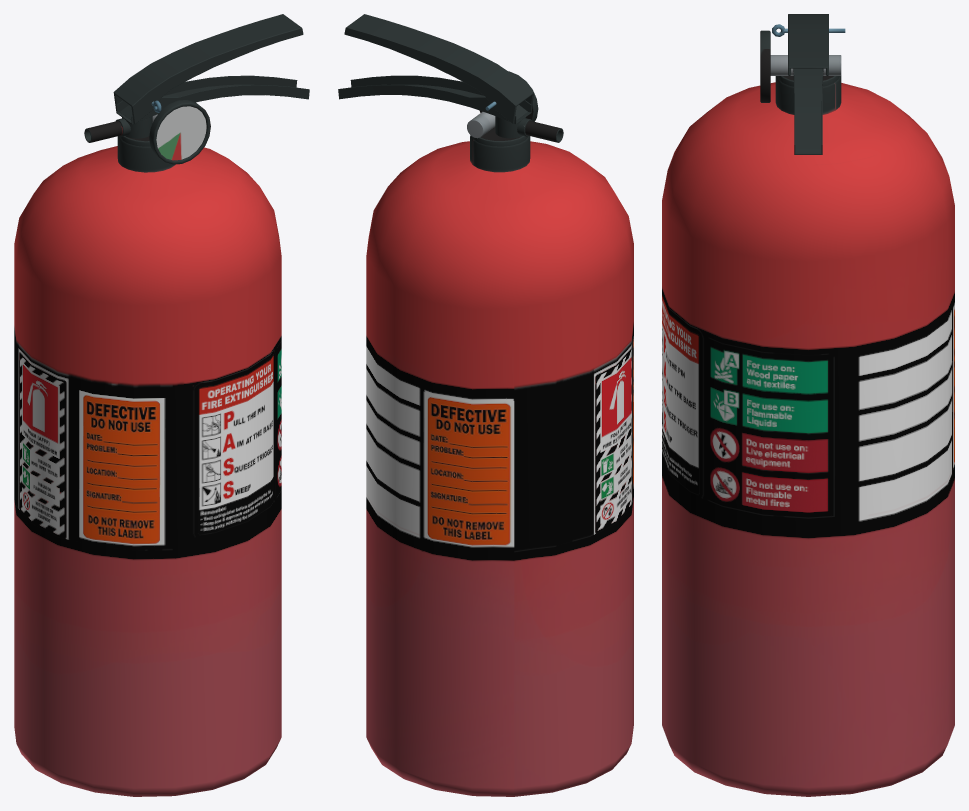
File: SM_Fire_Extinguisher.fbx
The picture shows the model from 3 angles, left to right: view 1: azimuth 30°, elevation 25°; view 2: azimuth 150°, elevation 25°; view 3: azimuth 270°, elevation 25°; orthographic projection. The views are drawn at different scales.
Visible parts, largest first — view 1: pCube3; view 2: pCube3; view 3: pCube3.
Part boxes in pixels (x1=…): pCube3: x1=14, y1=14, x2=309, y2=796; pCube3: x1=338, y1=14, x2=633, y2=796; pCube3: x1=662, y1=14, x2=954, y2=796.
Bounding box in the file's own units: 0.3701 × 0.8983 × 0.3167.
1 material, 1 textured.
